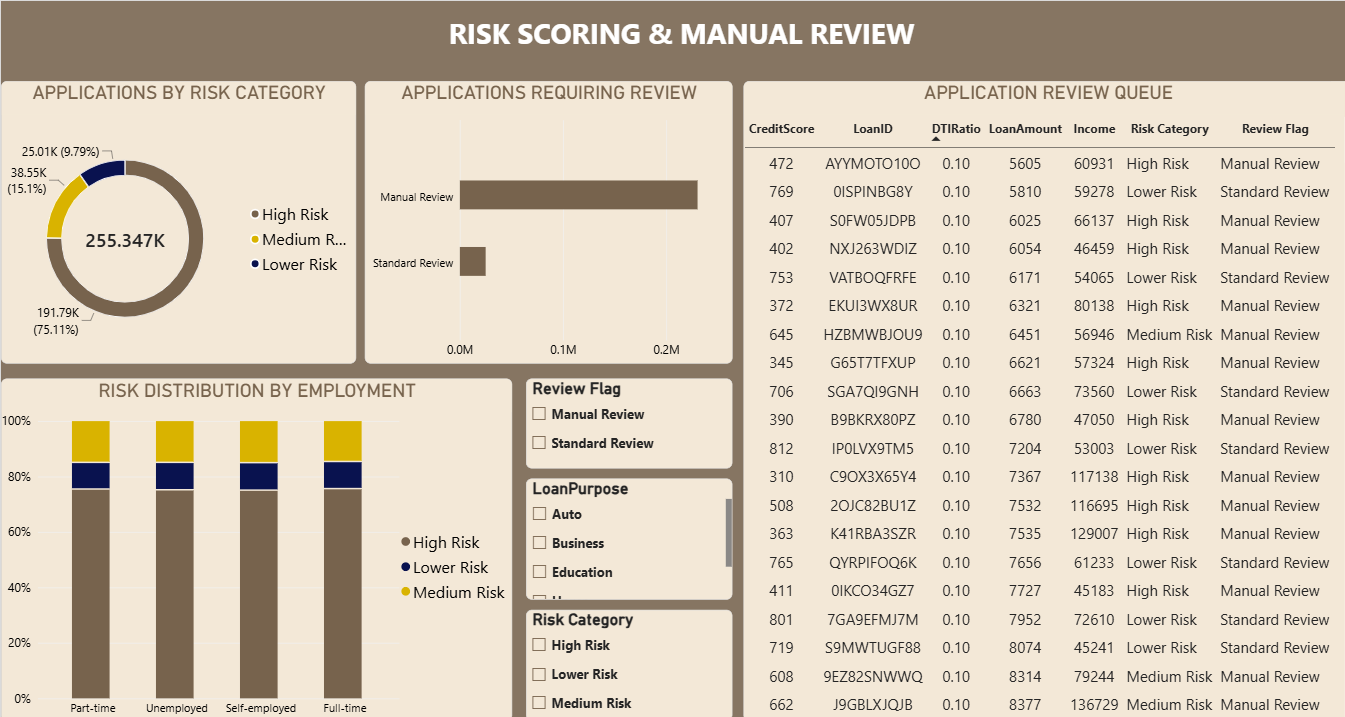

The dashboard page shown, as its layout file describes it:
{"tool":"powerbi","page":{"name":"Risk Scoring & Manual Review","canvas":[1920,1080],"ordinal":2},"visuals":[{"type":"slicer","fields":{"Values":["Loan_default.LoanPurpose"]},"box":[700,636.7,275,161.7],"z":0},{"type":"slicer","fields":{"Values":["Loan_default.Review Flag"]},"box":[700,503.3,275,120],"z":1},{"type":"slicer","fields":{"Values":["Loan_default.Risk Category"]},"box":[700,811.7,275,148.3],"z":2},{"type":"donutChart","title":"APPLICATIONS BY RISK CATEGORY","fields":{"Category":["Loan_default.Risk Category"],"Y":["Count(Loan_default.LoanID)"]},"box":[0,106.7,473.3,376.7],"z":3},{"type":"clusteredBarChart","title":"APPLICATIONS REQUIRING REVIEW","fields":{"Category":["Loan_default.Review Flag"],"Y":["Count(Loan_default.LoanID)"]},"box":[485,106.7,490,376.7],"z":4},{"type":"hundredPercentStackedColumnChart","title":"RISK DISTRIBUTION BY EMPLOYMENT","fields":{"Category":["Loan_default.EmploymentType"],"Series":["Loan_default.Risk Category"],"Y":["Count(Loan_default.LoanID)"]},"box":[0,503.3,681.7,456.7],"z":5},{"type":"tableEx","title":"APPLICATION REVIEW QUEUE","fields":{"Values":["Loan_default.CreditScore","Loan_default.LoanID","Loan_default.DTIRatio","Loan_default.LoanAmount","Loan_default.Income","Loan_default.Risk Category","Loan_default.Review Flag"]},"box":[990,106.7,811.7,853.3],"z":6},{"type":"textbox","box":[0,16.7,1815,71.7],"z":7}]}

Visuals, with their boxes on the page's 1920x1080 design canvas (x1, y1, x2, y2). These are canvas units, not pixel positions in the 1345x717 screenshot, which may show the page scaled, cropped or inside an application window:
slicer - Loan_default.LoanPurpose: bbox=(700, 637, 975, 798)
slicer - Loan_default.Review Flag: bbox=(700, 503, 975, 623)
slicer - Loan_default.Risk Category: bbox=(700, 812, 975, 960)
"APPLICATIONS BY RISK CATEGORY" donutChart: bbox=(0, 107, 473, 483)
"APPLICATIONS REQUIRING REVIEW" clusteredBarChart: bbox=(485, 107, 975, 483)
"RISK DISTRIBUTION BY EMPLOYMENT" hundredPercentStackedColumnChart: bbox=(0, 503, 682, 960)
"APPLICATION REVIEW QUEUE" tableEx: bbox=(990, 107, 1802, 960)
textbox: bbox=(0, 17, 1815, 88)
